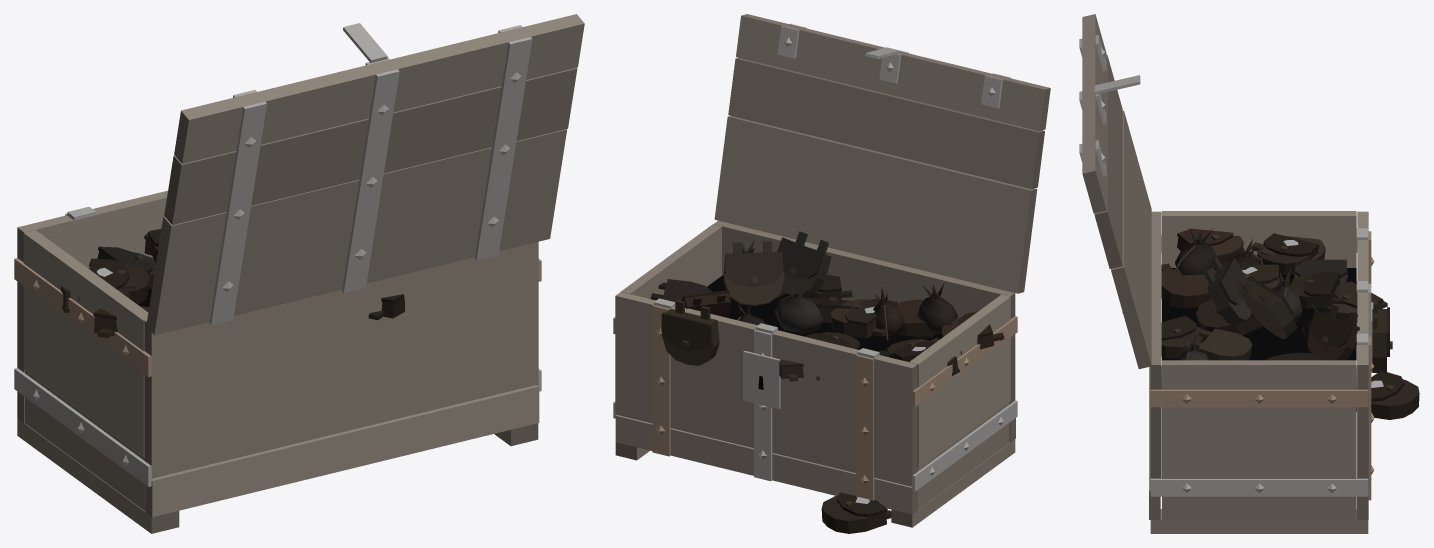
The model's file is prop_purse_chest.glb.
3 views of the same model, side by side, from view 1: azimuth 30°, elevation 25°; view 2: azimuth 150°, elevation 25°; view 3: azimuth 270°, elevation 25° (orthographic). The views are drawn at different scales.
Visible parts, largest first — view 1: PurseChest; view 2: PurseChest, PurseChestSoft; view 3: PurseChest, PurseChestSoft.
Part boxes in pixels (box(x1,y1,x2,y2)): PurseChest: box(14, 14, 584, 533); PurseChest: box(613, 14, 1050, 533); PurseChestSoft: box(737, 240, 957, 340); PurseChest: box(1079, 14, 1419, 533); PurseChestSoft: box(1173, 228, 1325, 360).
Size of the model in its own units: 0.7481 by 0.8067 by 0.6561.
